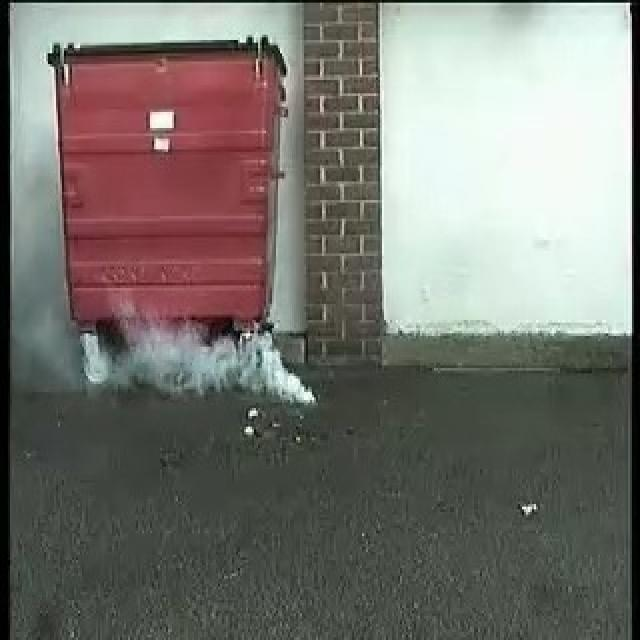smoke: (107, 300, 316, 404)
